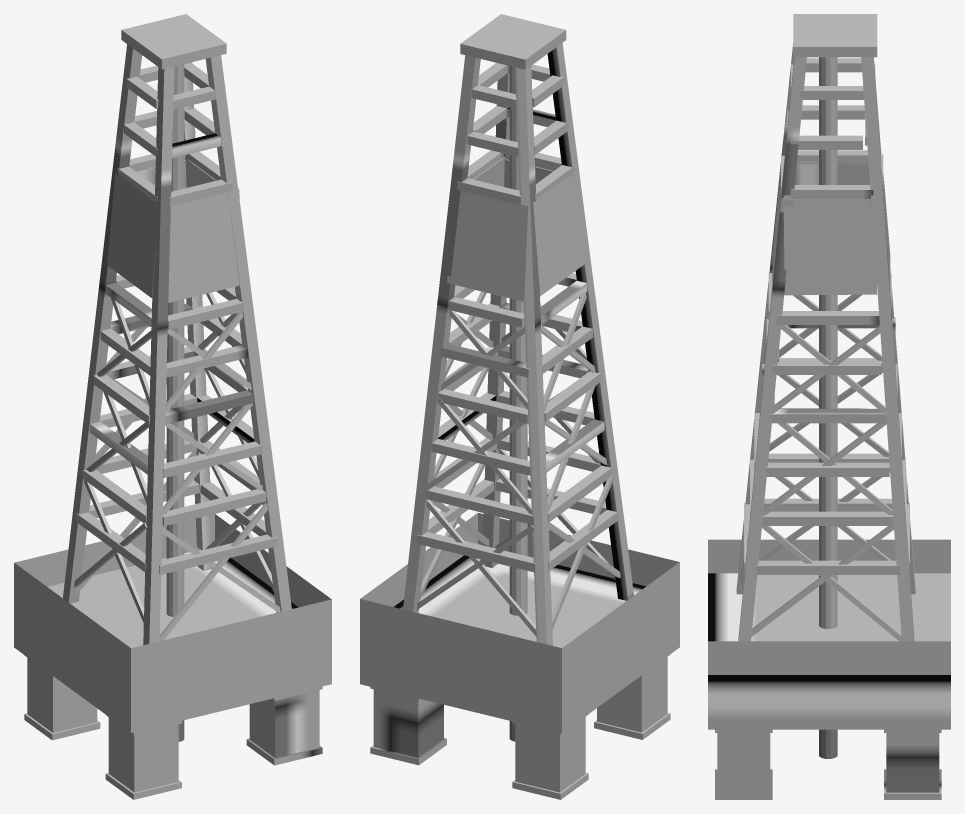
File: hydraulic_fracking_tower.obj
3 renders of one model, left to right at view 1: azimuth 30°, elevation 25°; view 2: azimuth 150°, elevation 25°; view 3: azimuth 270°, elevation 25°, orthographic. The views are drawn at different scales.
Parts seen in each view (by area): view 1: cube; view 2: cube; view 3: cube.
Boxes of the visible parts, x1,y1,x2,y2 form: cube: (14,14,331,799); cube: (360,14,679,799); cube: (708,14,950,799).
Bounding box in the file's own units: 6.5 × 21.62 × 6.56.
